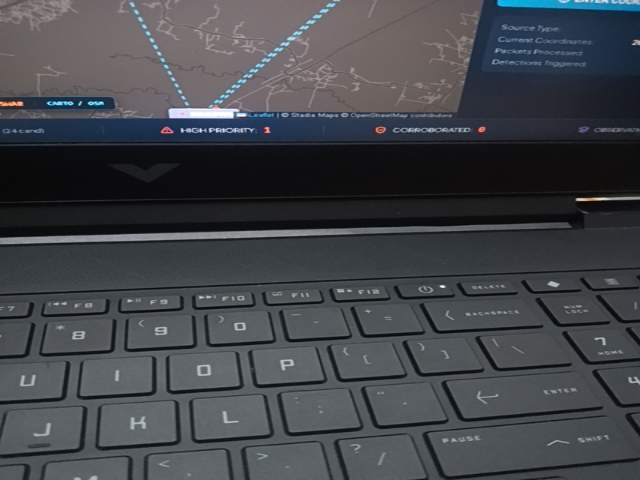pothole: (104, 206, 312, 346), (104, 376, 312, 480), (104, 403, 312, 480), (536, 403, 640, 480)
